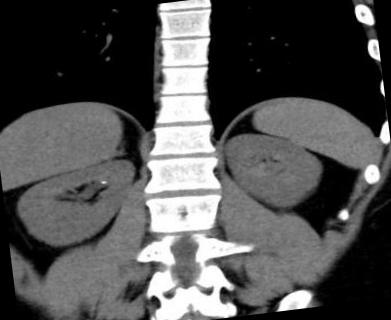Tas_Var: (100, 180, 108, 184)
